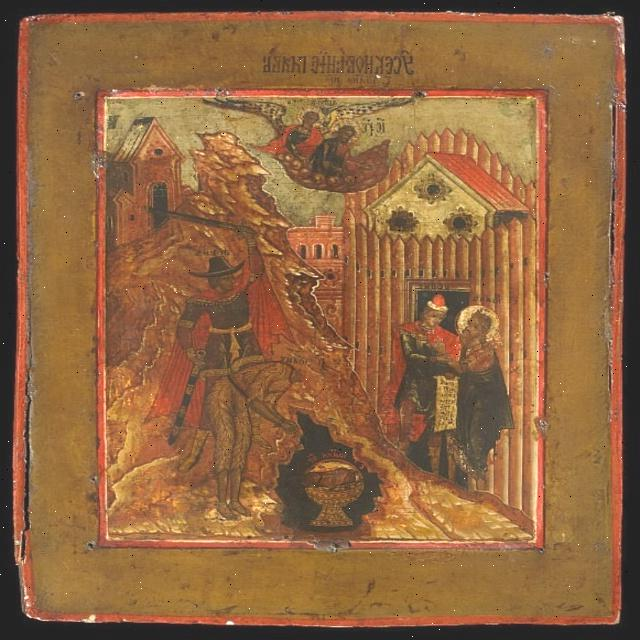angel: (241, 103, 327, 148)
aura: (457, 306, 503, 344), (333, 119, 364, 142), (298, 105, 333, 124)
saint: (457, 302, 521, 488), (317, 121, 363, 176)
scroll: (428, 375, 467, 431)
sword: (124, 202, 260, 237)
wing: (194, 99, 295, 129), (334, 93, 423, 120)
